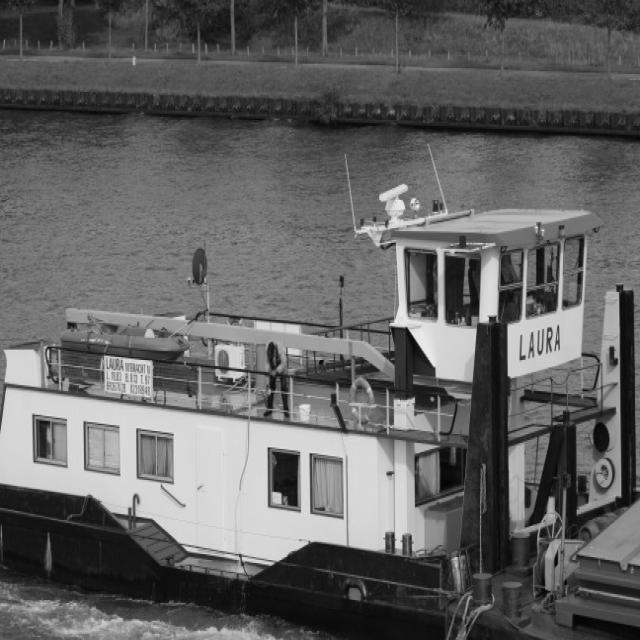tugboat: (1, 186, 640, 640)
